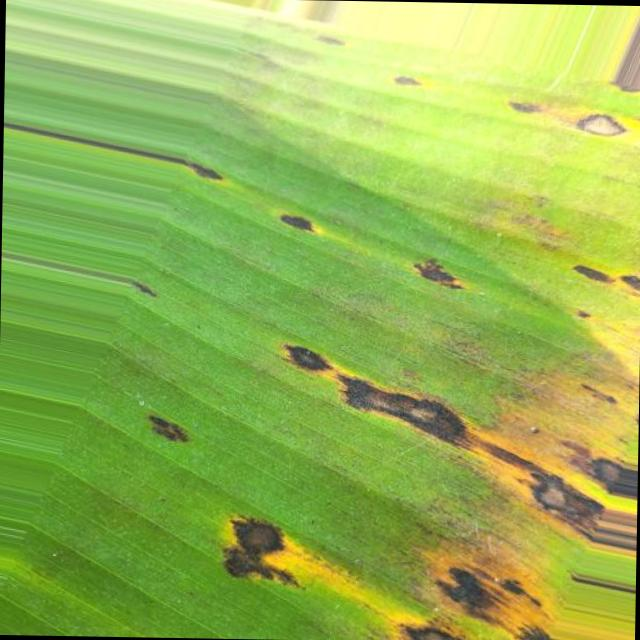Banana_Black_Sigatoka: (174, 355, 639, 640), (314, 42, 640, 312)
